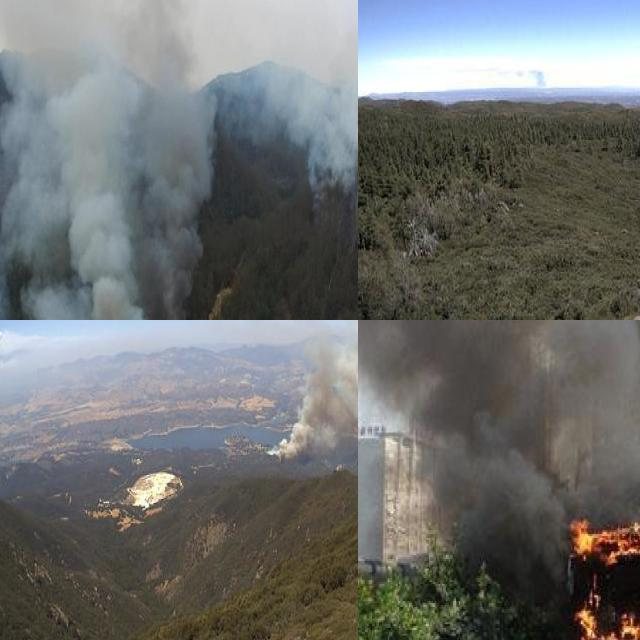fire: (566, 505, 640, 640)
smoke: (0, 0, 220, 320), (358, 320, 640, 559), (264, 0, 358, 198), (265, 320, 358, 461), (515, 65, 548, 100)
